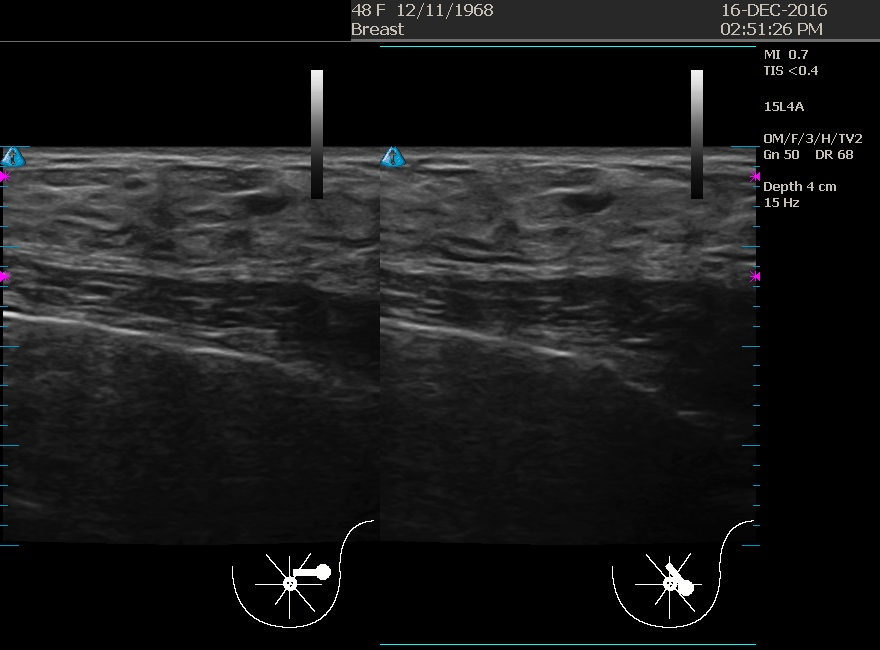BIRADS_2: (106, 186, 306, 387), (484, 183, 684, 383)
